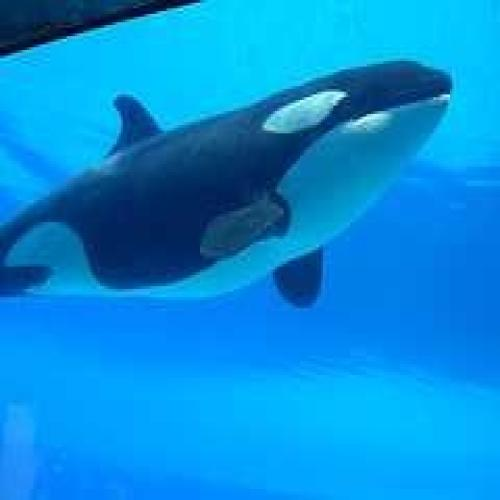killer_whale-endangered: (1, 49, 461, 322)
